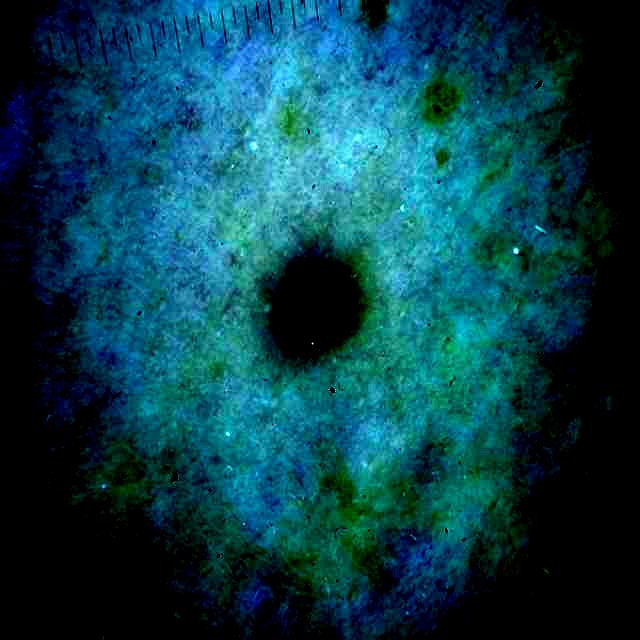VASC: (299, 274, 340, 331)
